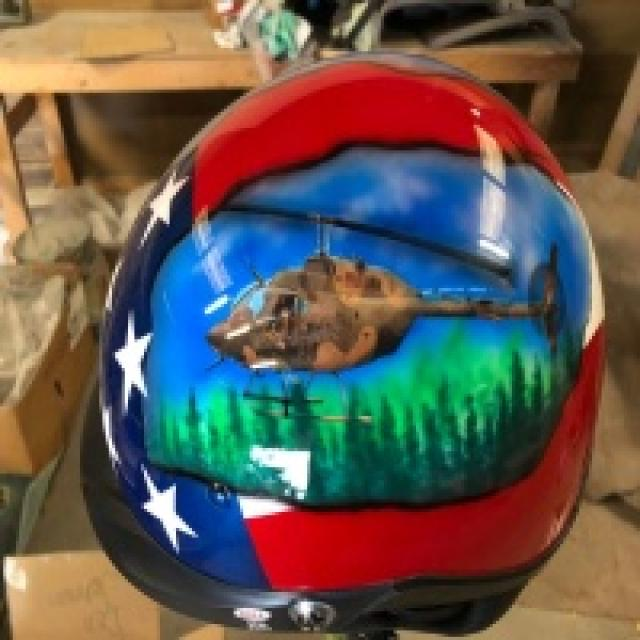Helmet: (84, 55, 604, 634)
